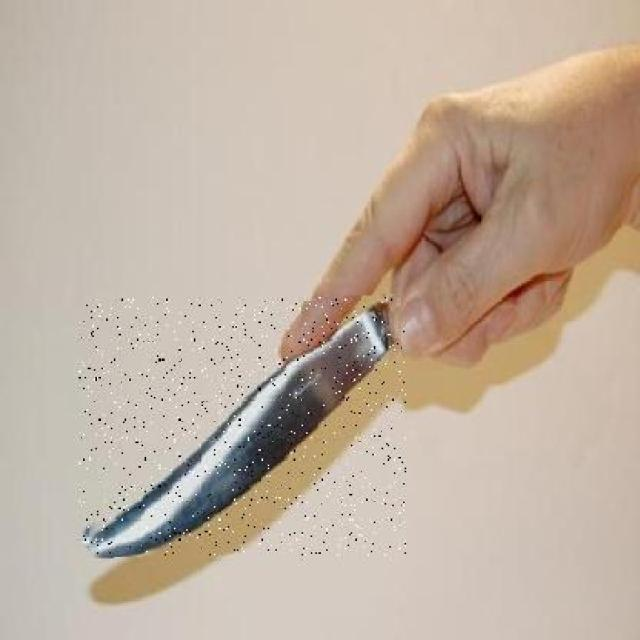knife: (79, 297, 406, 555)
